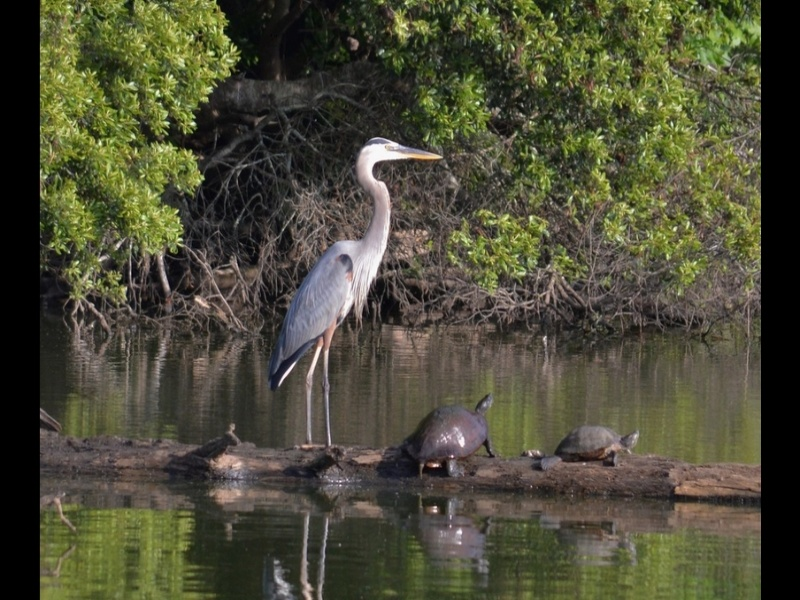heron: (267, 132, 445, 445)
